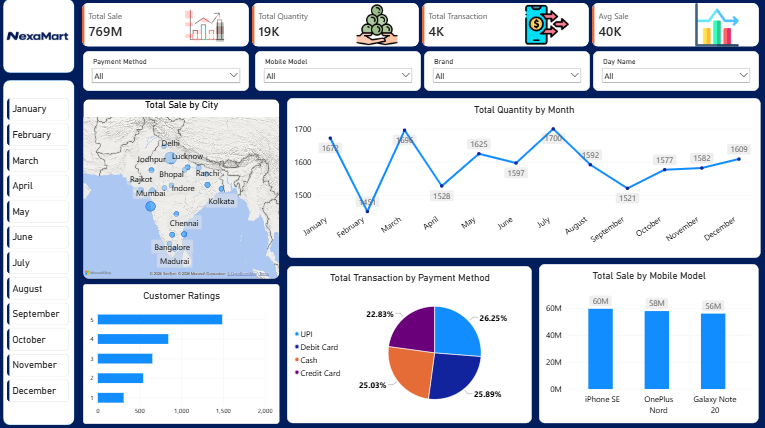

The dashboard page shown, as its layout file describes it:
{"tool":"powerbi","page":{"name":"Page 1","canvas":[1920,1080],"ordinal":0},"visuals":[{"type":"shape","box":[8.5,0,178.6,185],"z":0},{"type":"shape","box":[8.5,202,178.6,863.1],"z":1000},{"type":"advancedSlicerVisual","fields":{"Values":["Sales Project Data.Date.Variation.Date Hierarchy.Month"]},"box":[17,248.7,155.2,769.6],"z":2000},{"type":"image","box":[8.5,48.9,170.1,87.2],"z":3000},{"type":"cardVisual","fields":{"Data":["Sales Project Data.Total Sale","Sales Project Data.Total Quantity","Sales Project Data.Total Transaction","Sales Project Data.Average"]},"box":[206.2,0,1694.4,129.7],"z":4000},{"type":"map","fields":{"Category":["Sales Project Data.City"],"Size":["Sales Project Data.Total Sale"]},"box":[206.7,248.9,491.1,450],"z":5000},{"type":"lineChart","fields":{"Category":["Sales Project Data.Date.Variation.Date Hierarchy.Month","Sales Project Data.Date.Variation.Date Hierarchy.Day"],"Y":["Sales Project Data.Total Quantity"]},"box":[716.5,248.7,1184.2,400],"z":6000},{"type":"clusteredColumnChart","fields":{"Category":["Sales Project Data.Mobile Model"],"Y":["Sales Project Data.Total Sale"]},"box":[1347.9,663.3,548.5,397.6],"z":7000},{"type":"pieChart","fields":{"Category":["Sales Project Data.Payment Method"],"Y":["Sales Project Data.Total Transaction"]},"box":[716.5,667.6,612.3,393.3],"z":8000},{"type":"clusteredBarChart","title":"Customer Ratings","fields":{"Category":["Sales Project Data.Customer Ratings"],"Y":["CountNonNull(Sales Project Data.Customer Ratings)"]},"box":[206.7,713.3,491.1,350],"z":9000},{"type":"slicer","fields":{"Values":["Sales Project Data.Payment Method"]},"box":[206.7,128.9,415,100],"z":10000},{"type":"slicer","fields":{"Values":["Sales Project Data.Day Name"]},"box":[1482.2,128.9,415,100],"z":11000},{"type":"slicer","fields":{"Values":["Sales Project Data.Mobile Model"]},"box":[637.8,128.9,415,100],"z":12000},{"type":"slicer","fields":{"Values":["Sales Project Data.Brand"]},"box":[1060,128.9,415,100],"z":13000}]}

Visuals, with their boxes in screenshot pixels (x1, y1, x2, y2), scaled from the page's 1920x1080 canvas onto the 765x428 screenshot:
shape: rect(3, 0, 75, 73)
shape: rect(3, 80, 75, 422)
advancedSlicerVisual - Sales Project Data.Date.Variation.Date Hierarchy.Month: rect(7, 99, 69, 404)
image: rect(3, 19, 71, 54)
cardVisual - Sales Project Data.Total Sale x Sales Project Data.Total Quantity: rect(82, 0, 757, 51)
map - Sales Project Data.City x Sales Project Data.Total Sale: rect(82, 99, 278, 277)
lineChart - Sales Project Data.Date.Variation.Date Hierarchy.Month x Sales Project Data.Date.Variation.Date Hierarchy.Day: rect(285, 99, 757, 257)
clusteredColumnChart - Sales Project Data.Mobile Model x Sales Project Data.Total Sale: rect(537, 263, 756, 420)
pieChart - Sales Project Data.Payment Method x Sales Project Data.Total Transaction: rect(285, 265, 529, 420)
"Customer Ratings" clusteredBarChart: rect(82, 283, 278, 421)
slicer - Sales Project Data.Payment Method: rect(82, 51, 248, 91)
slicer - Sales Project Data.Day Name: rect(591, 51, 756, 91)
slicer - Sales Project Data.Mobile Model: rect(254, 51, 419, 91)
slicer - Sales Project Data.Brand: rect(422, 51, 588, 91)
